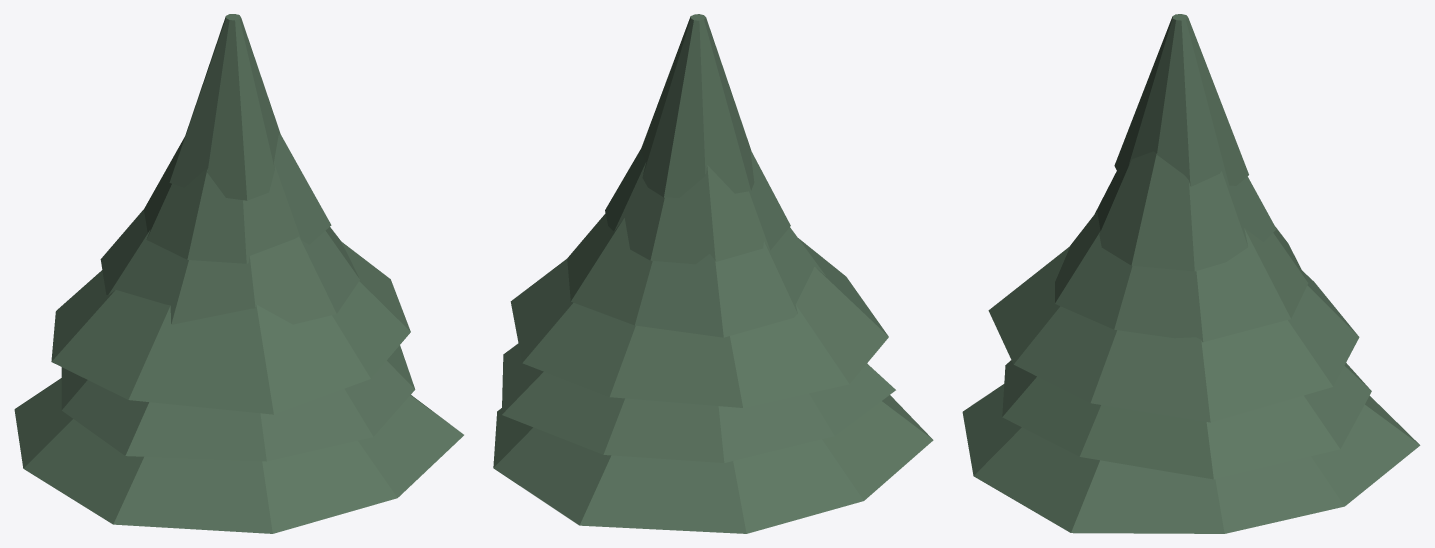
The model's file is pine.glb.
The picture shows the model from 3 angles, left to right: view 1: azimuth 30°, elevation 25°; view 2: azimuth 150°, elevation 25°; view 3: azimuth 270°, elevation 25°; orthographic projection.
Visible parts, largest first — view 1: pine_leaf; view 2: pine_leaf; view 3: pine_leaf.
Part boxes in pixels (bbox=[...]): pine_leaf: bbox=[14, 14, 463, 533]; pine_leaf: bbox=[493, 14, 933, 533]; pine_leaf: bbox=[962, 14, 1420, 533].
Size of the model in its own units: 3.53 by 4.33 by 3.76.
